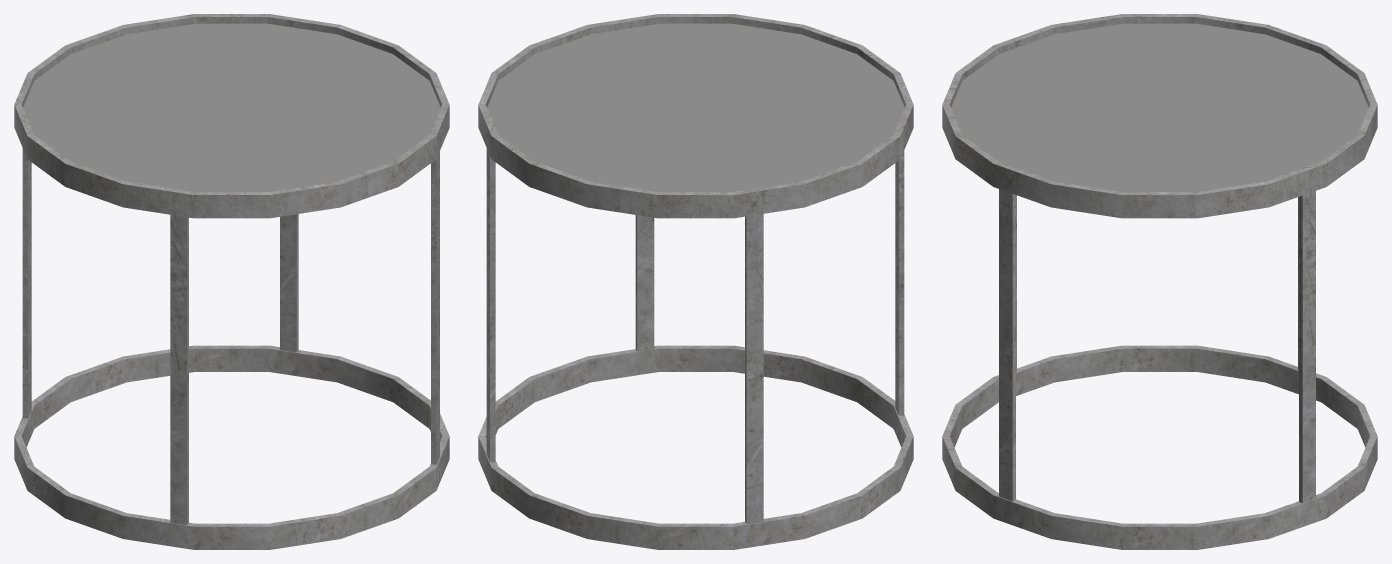
Rendered from Table 1.FBX.
The picture shows the model from 3 angles, left to right: view 1: azimuth 30°, elevation 25°; view 2: azimuth 150°, elevation 25°; view 3: azimuth 270°, elevation 25°; orthographic projection.
Parts seen in each view (by area): view 1: table 1; view 2: table 1; view 3: table 1.
Boxes of the visible parts, left/top/right/bottom form: table 1: left=14, top=14, right=449, bottom=549; table 1: left=478, top=14, right=913, bottom=549; table 1: left=942, top=14, right=1377, bottom=549.
Size of the model in its own units: 44.5 by 40.64 by 45.19.
2 materials, 1 textured.
